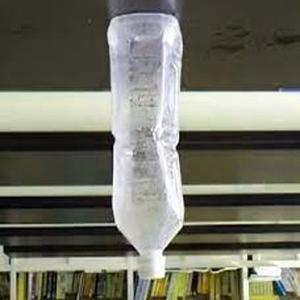Plastic: (105, 12, 184, 281)
